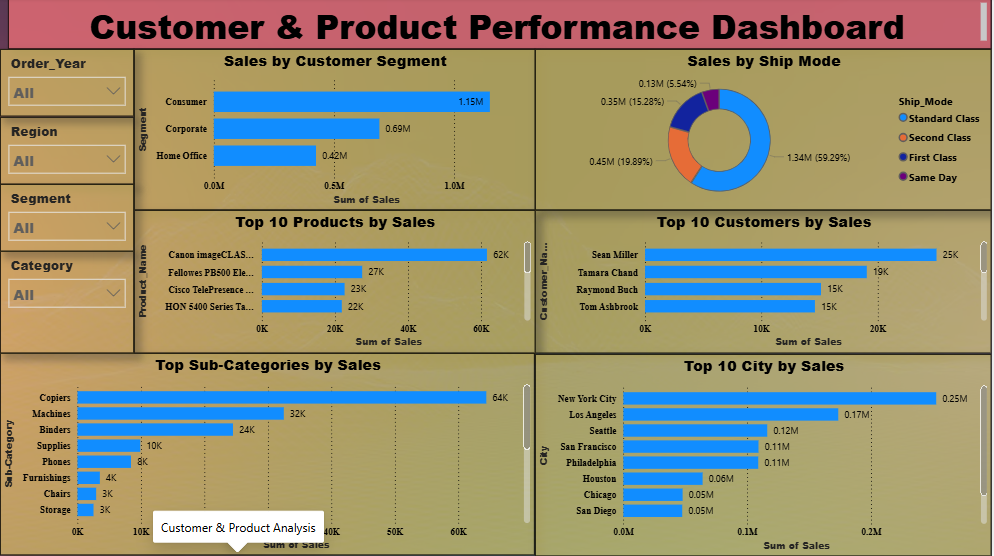

Layout of this report page (visuals, bound fields, positions):
{"tool":"powerbi","page":{"name":"Customer & Product Analysis","canvas":[1280,720],"ordinal":1},"visuals":[{"type":"textbox","box":[10.6,0,1269.4,65.9],"z":0},{"type":"clusteredBarChart","title":"Sales by Customer Segment","fields":{"Y":["Sum(Superstore_Cleaned.Sales)"],"Category":["Superstore_Cleaned.Segment"]},"box":[172.9,65.9,517.6,208.2],"z":1000},{"type":"clusteredBarChart","title":"Top 10 Customers by Sales","fields":{"Y":["Sum(Superstore_Cleaned.Sales)"],"Category":["Superstore_Cleaned.Customer_Name"]},"box":[690.6,274.1,589.4,184.7],"z":2000},{"type":"clusteredBarChart","title":"Top 10 Products by Sales","fields":{"Y":["Sum(Superstore_Cleaned.Sales)"],"Category":["Superstore_Cleaned.Product_Name"]},"box":[172.9,274.1,517.6,184.7],"z":3000},{"type":"donutChart","title":"Sales by Ship Mode","fields":{"Y":["Sum(Superstore_Cleaned.Sales)"],"Category":["Superstore_Cleaned.Ship_Mode"]},"box":[690.6,65.9,589.4,208.2],"z":4000},{"type":"clusteredBarChart","title":"Top Sub-Categories by Sales","fields":{"Y":["Sum(Superstore_Cleaned.Sales)"],"Category":["Superstore_Cleaned.Sub-Category"]},"box":[0,458.6,690,261.4],"z":5000},{"type":"slicer","title":"Sales by Ship Mode","fields":{"Values":["Superstore_Cleaned.Region"]},"box":[0,152.9,172.9,87.1],"z":6000},{"type":"slicer","title":"Sales by Ship Mode","fields":{"Values":["Superstore_Cleaned.Category"]},"box":[0,327.1,172.9,131.8],"z":7000},{"type":"slicer","title":"Sales by Ship Mode","fields":{"Values":["Superstore_Cleaned.Segment"]},"box":[0,240,172.9,87.1],"z":8000},{"type":"slicer","title":"Sales by Ship Mode","fields":{"Values":["Superstore_Cleaned.Order_Year"]},"box":[0,65.9,172.9,87.1],"z":9000},{"type":"clusteredBarChart","title":"Top 10 City by Sales","fields":{"Y":["Sum(Superstore_Cleaned.Sales)"],"Category":["Superstore_Cleaned.City"]},"box":[690.6,458.8,589.4,261.2],"z":11000}]}

Visuals, with their boxes in screenshot pixels (x1, y1, x2, y2), scaled from the page's 1280x720 canvas onto the 994x556 screenshot:
textbox: bbox=[8, 0, 993, 51]
"Sales by Customer Segment" clusteredBarChart: bbox=[134, 51, 536, 212]
"Top 10 Customers by Sales" clusteredBarChart: bbox=[536, 212, 993, 354]
"Top 10 Products by Sales" clusteredBarChart: bbox=[134, 212, 536, 354]
"Sales by Ship Mode" donutChart: bbox=[536, 51, 993, 212]
"Top Sub-Categories by Sales" clusteredBarChart: bbox=[0, 354, 536, 555]
"Sales by Ship Mode" slicer: bbox=[0, 118, 134, 185]
"Sales by Ship Mode" slicer: bbox=[0, 253, 134, 354]
"Sales by Ship Mode" slicer: bbox=[0, 185, 134, 253]
"Sales by Ship Mode" slicer: bbox=[0, 51, 134, 118]
"Top 10 City by Sales" clusteredBarChart: bbox=[536, 354, 993, 555]
